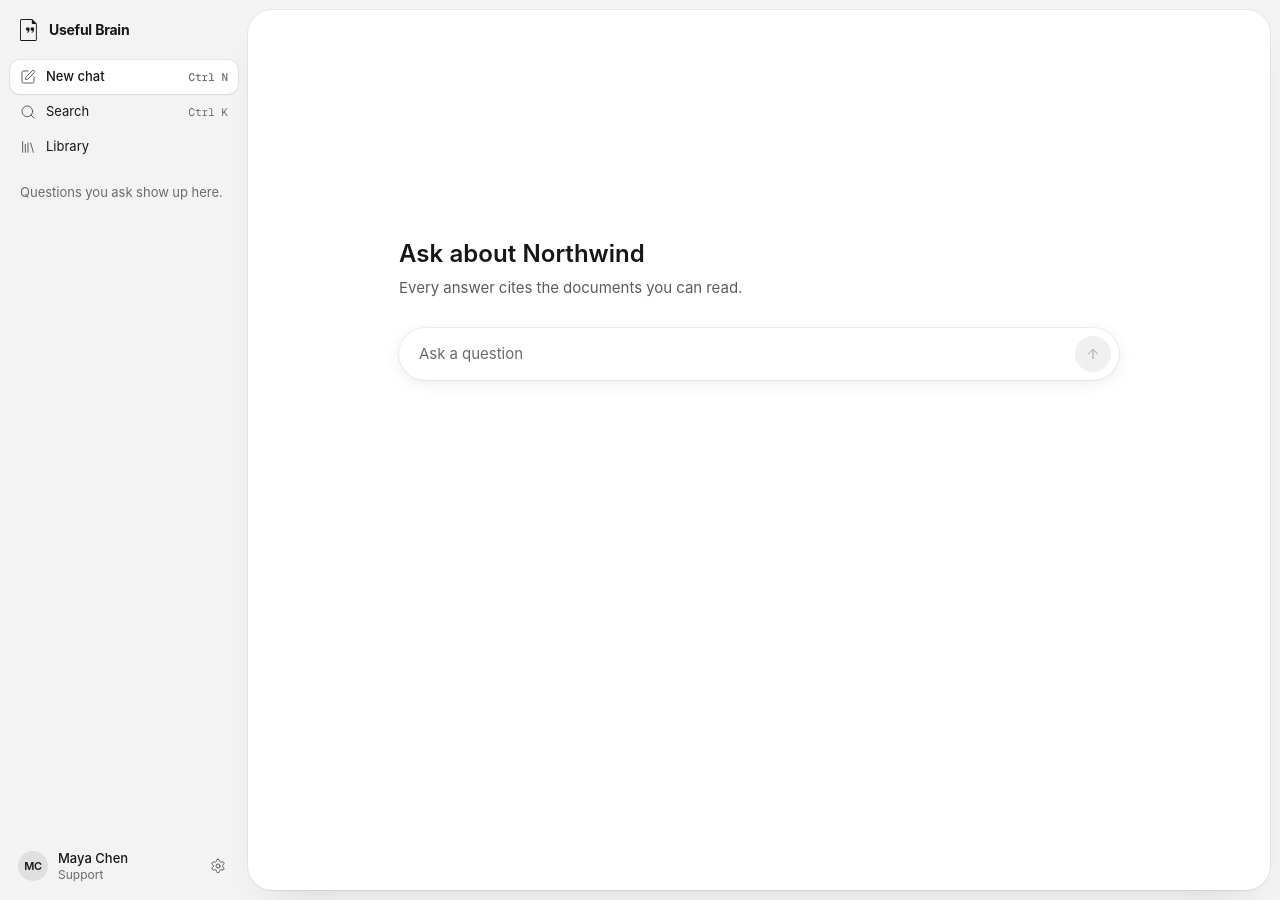
answer › renders the host action note as plain text without a chip or a source
Step 1. Type "Open a P1 ticket" into the text box labelled "question" → point(747, 354), box x1=419 y1=342 x2=1075 y2=366
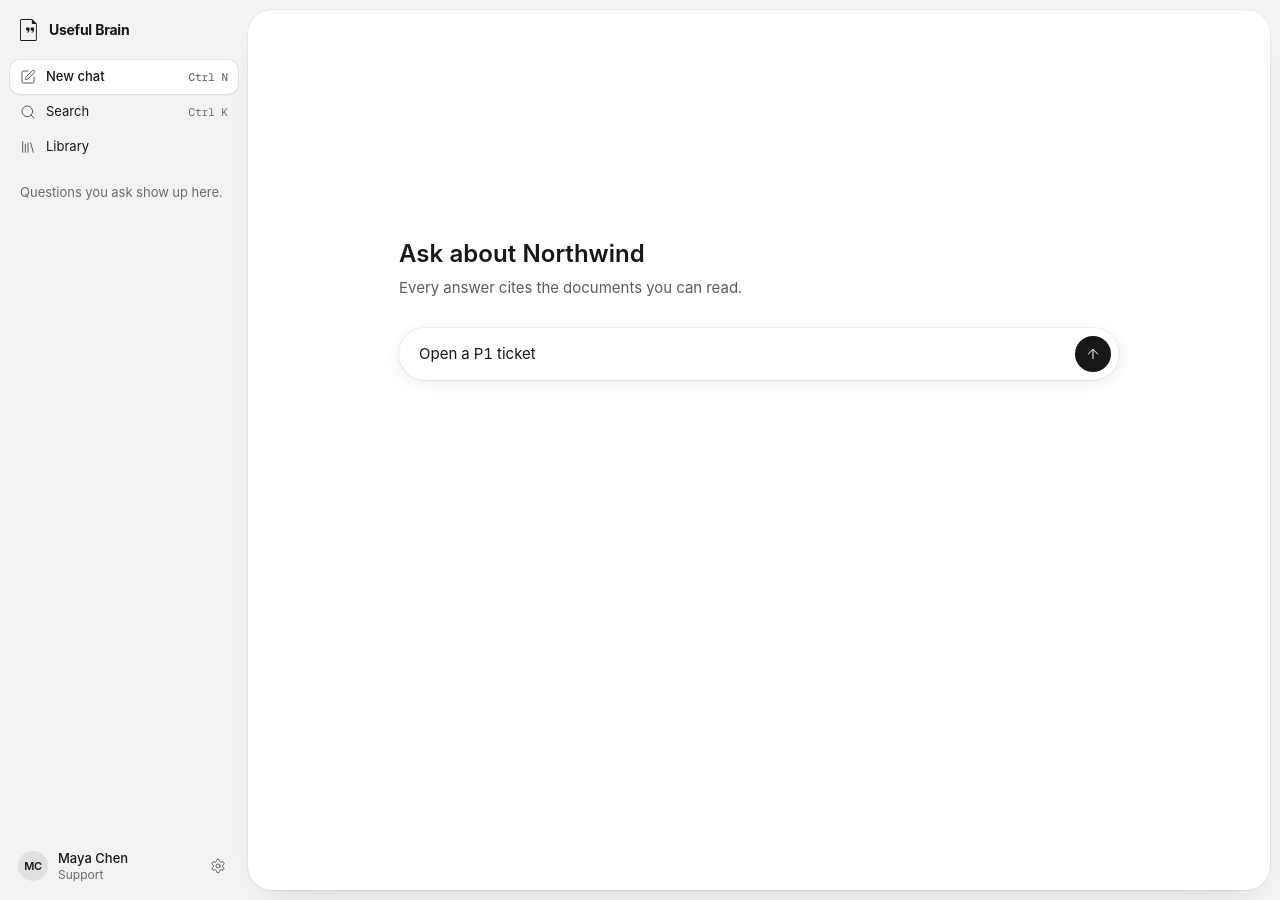
Step 2. Click the button named "Send" → point(1093, 354), box x1=1075 y1=336 x2=1111 y2=372
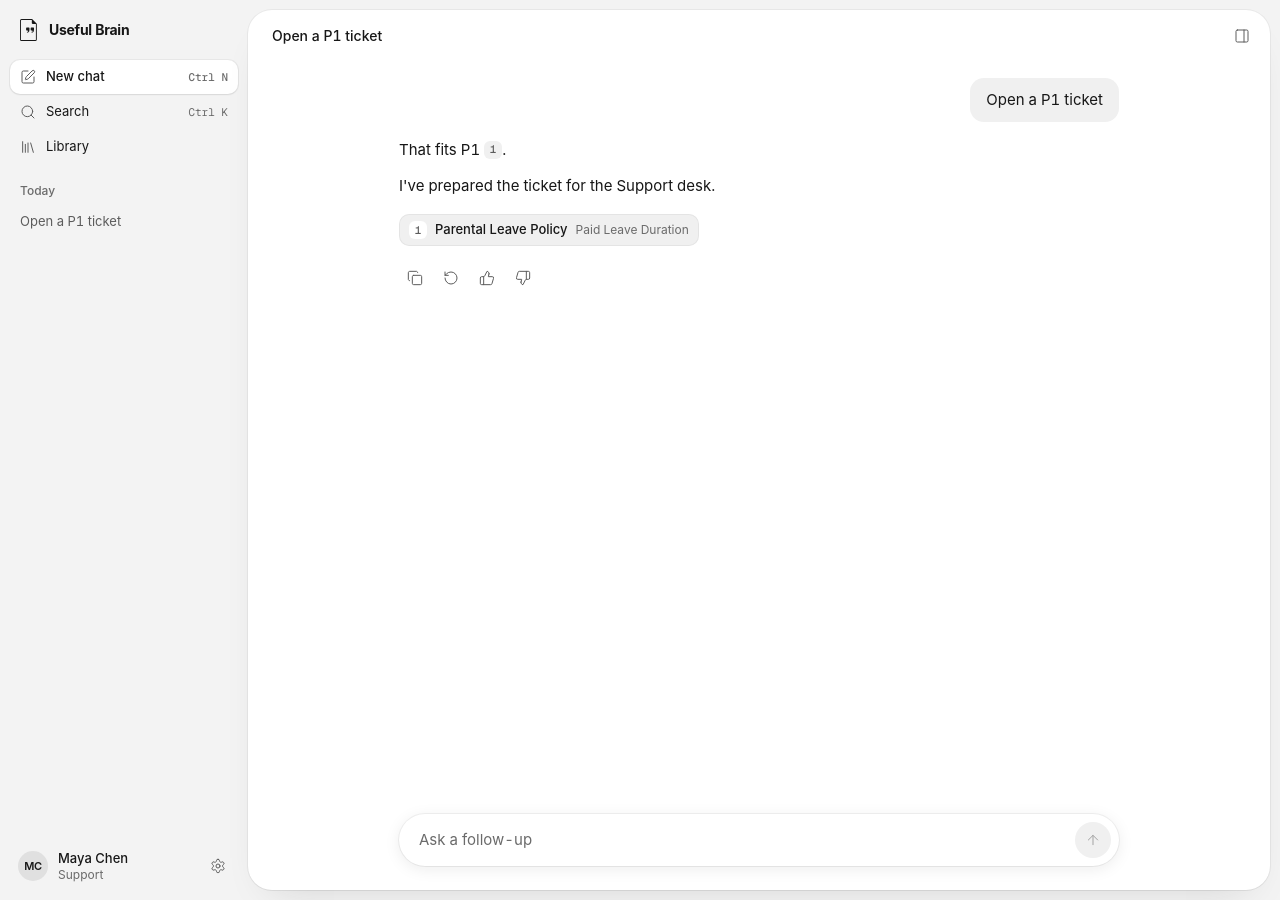
Result: the text "I've prepared the ticket for the Support desk." is shown at x1=399 y1=176 x2=715 y2=195
Result: the number of buttons named "Citation" is 1 at x1=484 y1=140 x2=502 y2=158
Result: the number of buttons named "Source" is 1 at x1=399 y1=214 x2=699 y2=246
